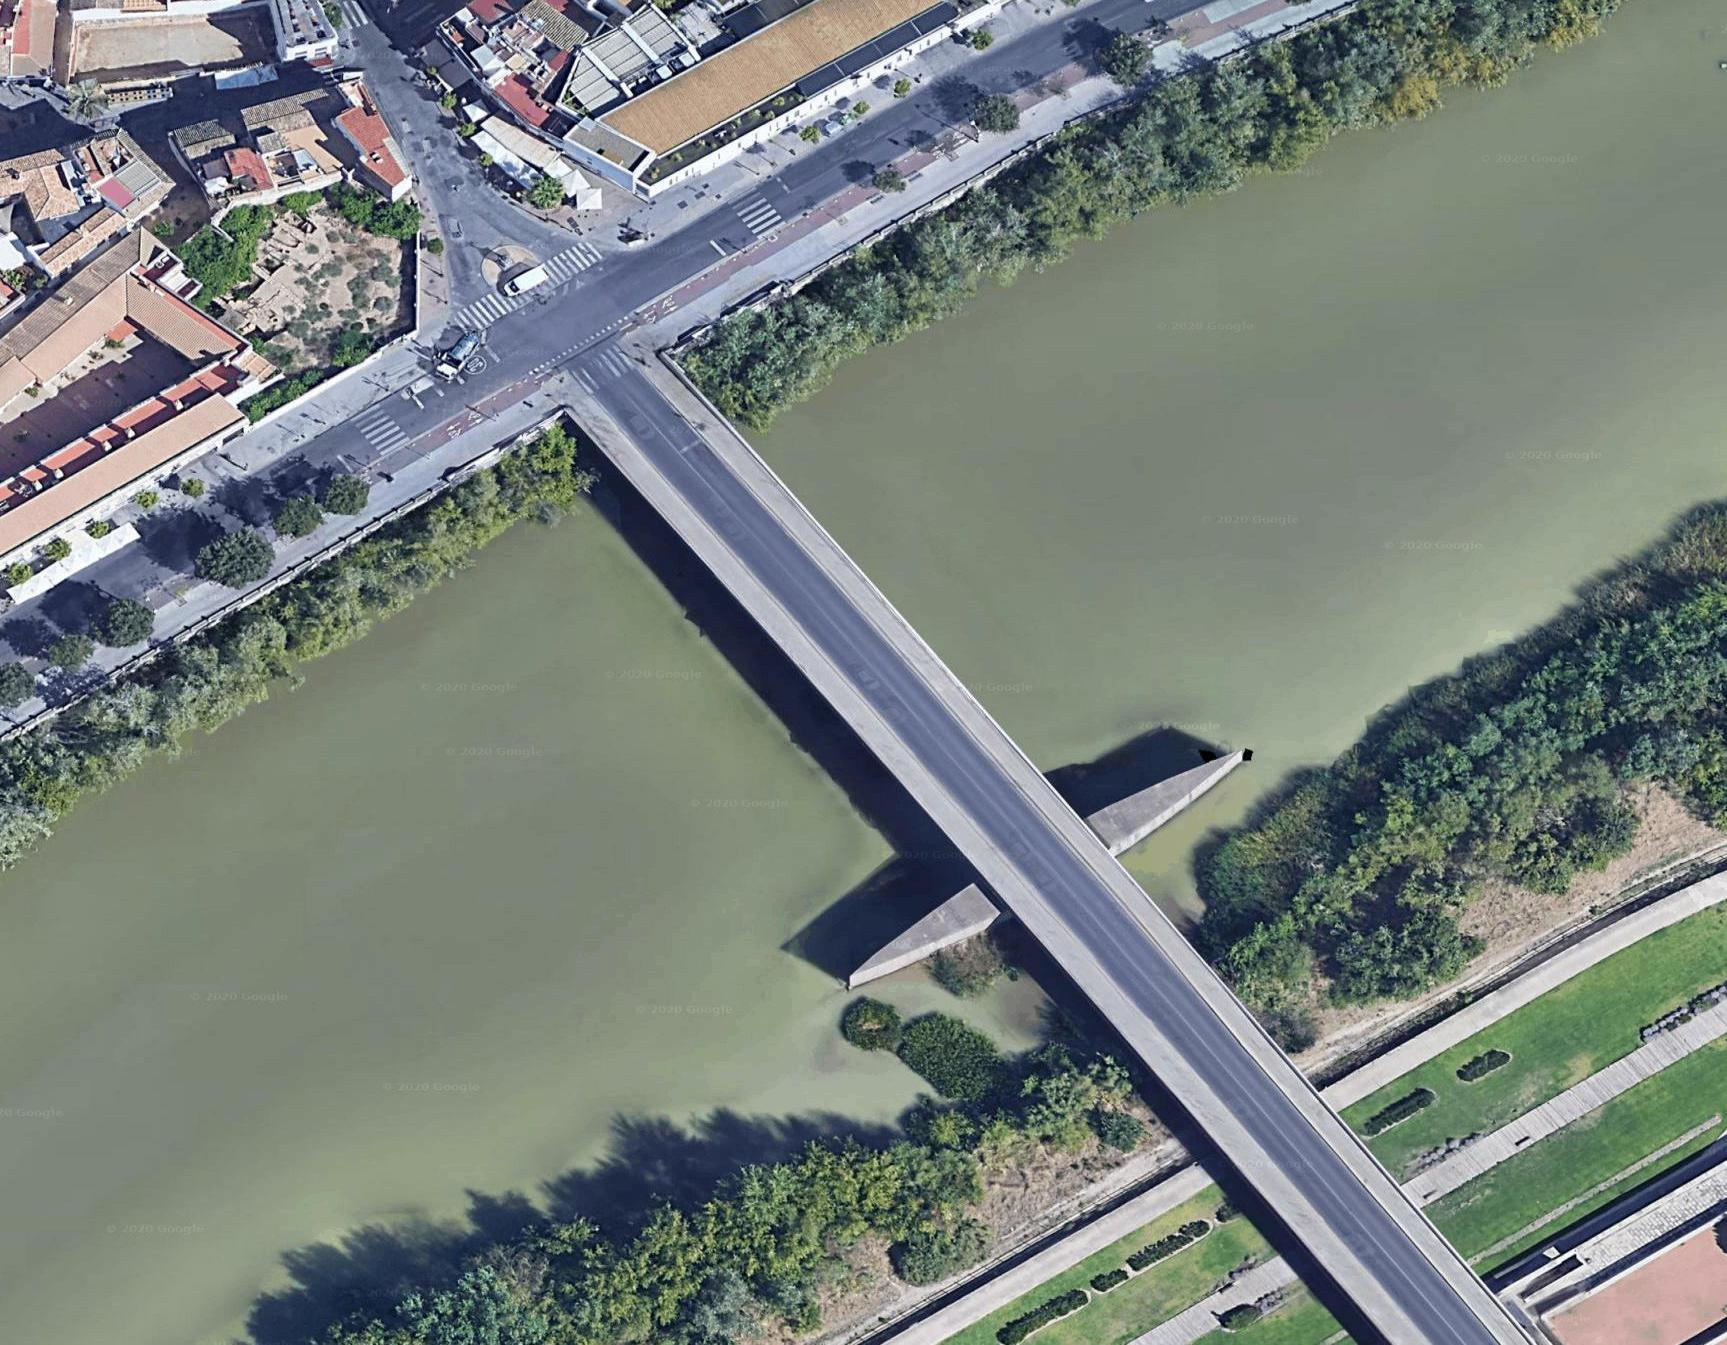bridge: (535, 404, 1606, 1327)
roundabout: (475, 247, 538, 278)
small-vehicle: (423, 332, 496, 384)
